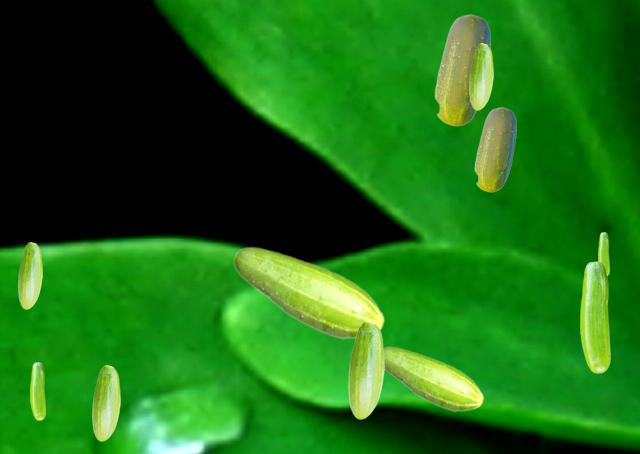cucumber: (233, 246, 384, 339), (384, 346, 483, 411), (434, 14, 489, 125), (474, 107, 515, 191), (348, 321, 383, 418), (580, 261, 609, 372), (92, 365, 119, 440), (18, 242, 41, 308), (469, 43, 492, 109), (30, 362, 44, 419), (598, 232, 608, 275)
